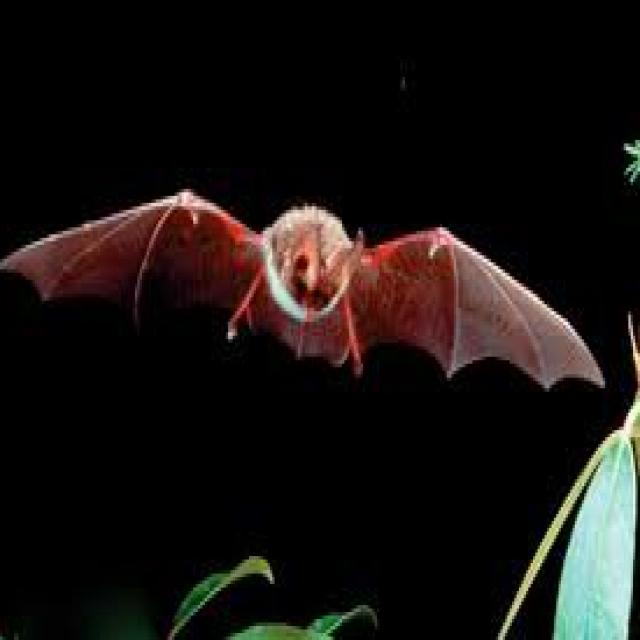bat: (2, 189, 603, 385)
